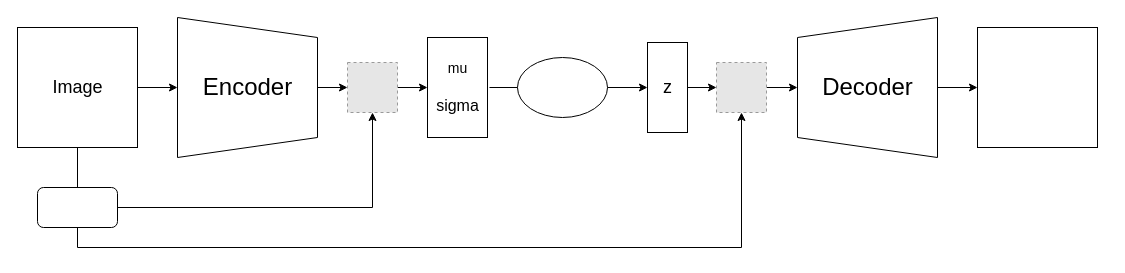
This 1125x273 diagram has some shape labels left out. Grey dashed boxes stand in for pictures. Here are the shapes that lost their labels. From the top down, the box of each, then its label:
(516, 56, 608, 118): Sample N(mu,sigma)
(976, 26, 1098, 148): Reconstructed image
(36, 186, 118, 228): Label
